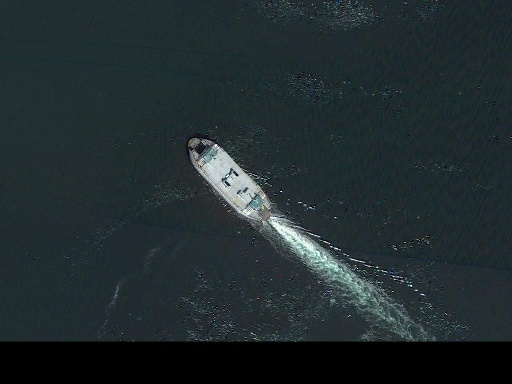ship: (176, 126, 281, 231)
